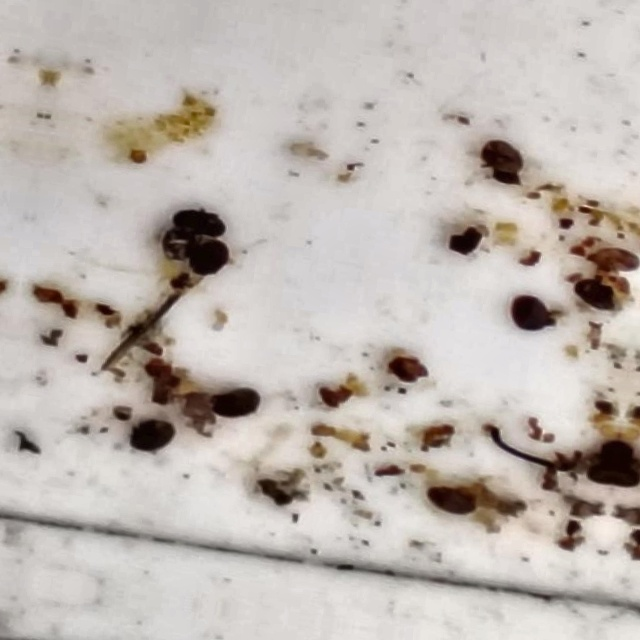varroa: (206, 382, 266, 425), (183, 236, 237, 281), (166, 205, 228, 242), (126, 416, 179, 458), (478, 139, 529, 181), (152, 225, 198, 269), (570, 274, 620, 313), (507, 295, 553, 336), (423, 483, 478, 516), (581, 452, 615, 485), (596, 436, 618, 460)
